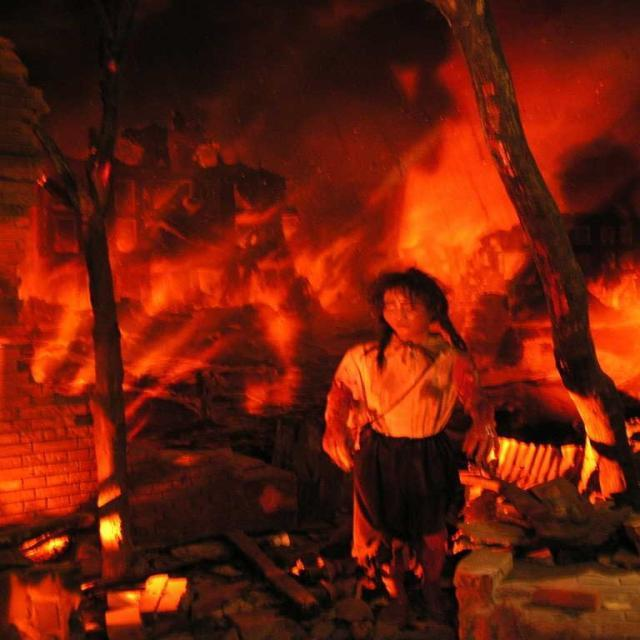Fire: (74, 146, 512, 320)
